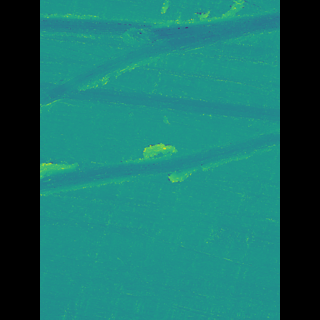Loch: (69, 8, 251, 109), (68, 124, 251, 199)
